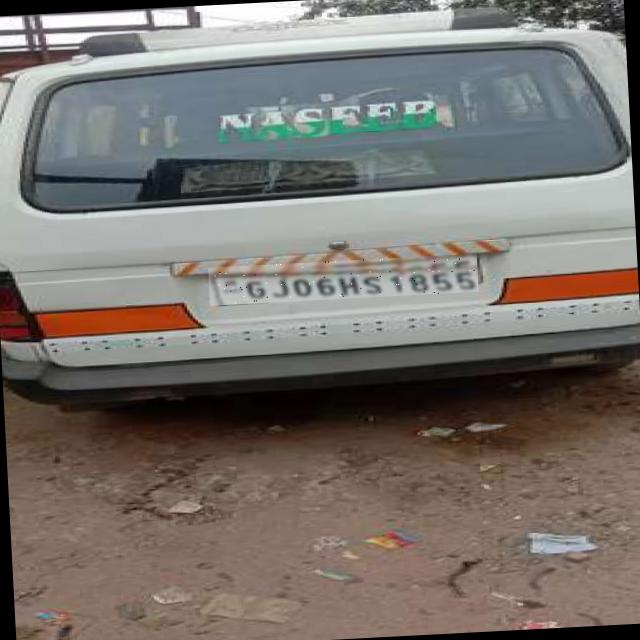Plate: (209, 255, 480, 307)
